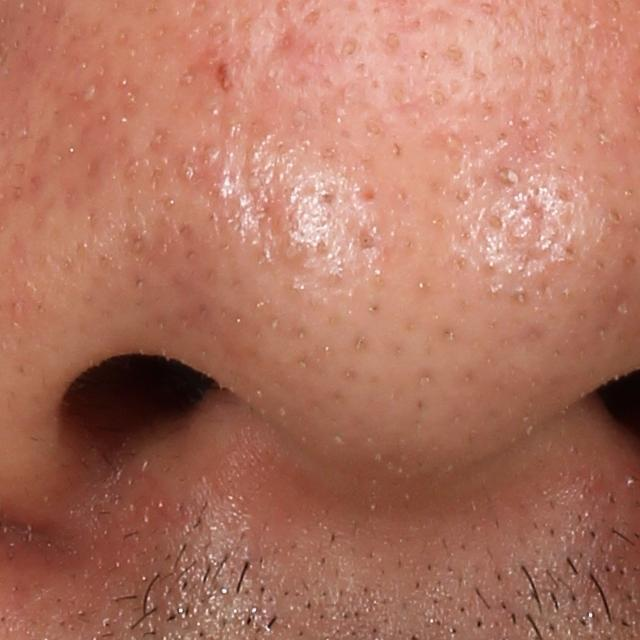comedo: (484, 160, 524, 195), (335, 36, 363, 62), (382, 27, 405, 58), (441, 43, 464, 69)
